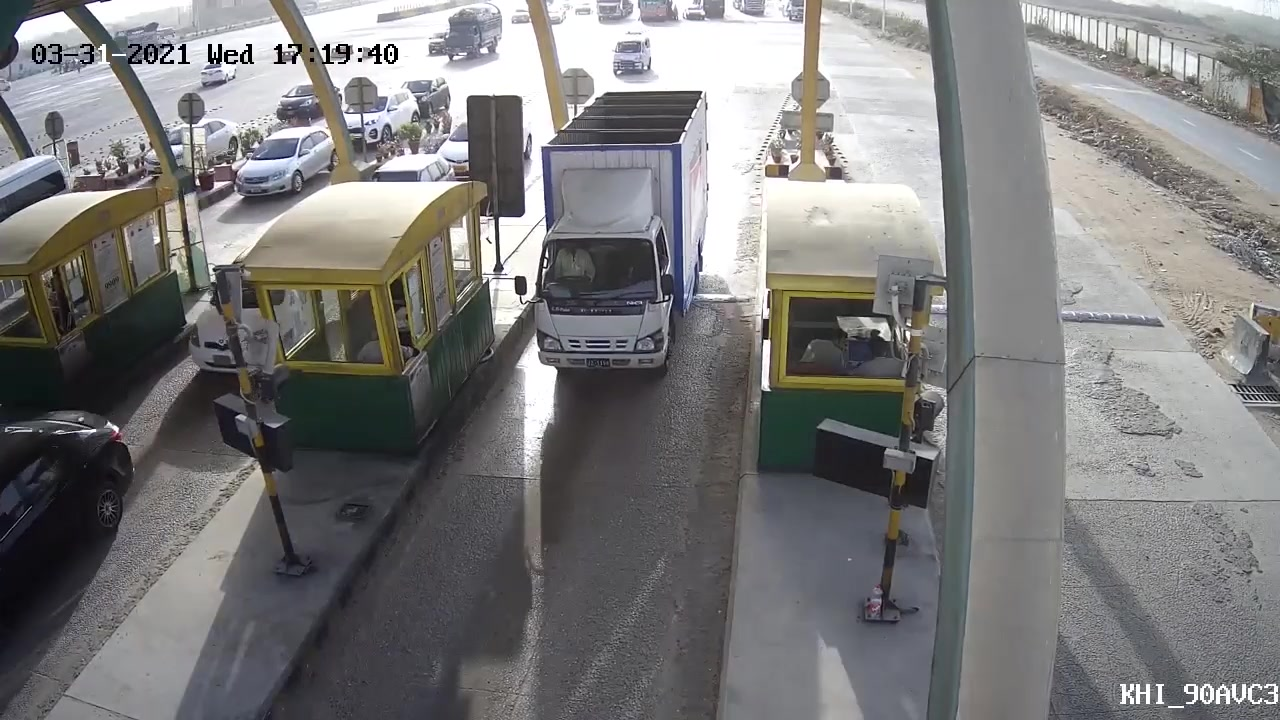F5: (524, 88, 718, 396)
